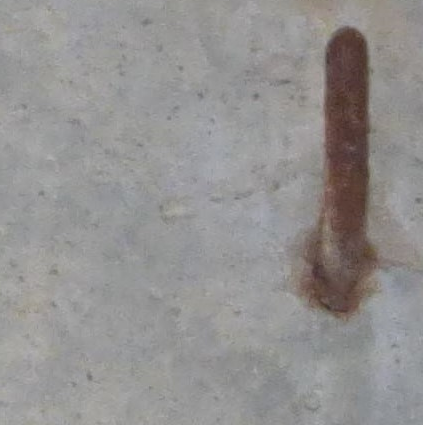Exposed reinforcement: (323, 26, 369, 292)
